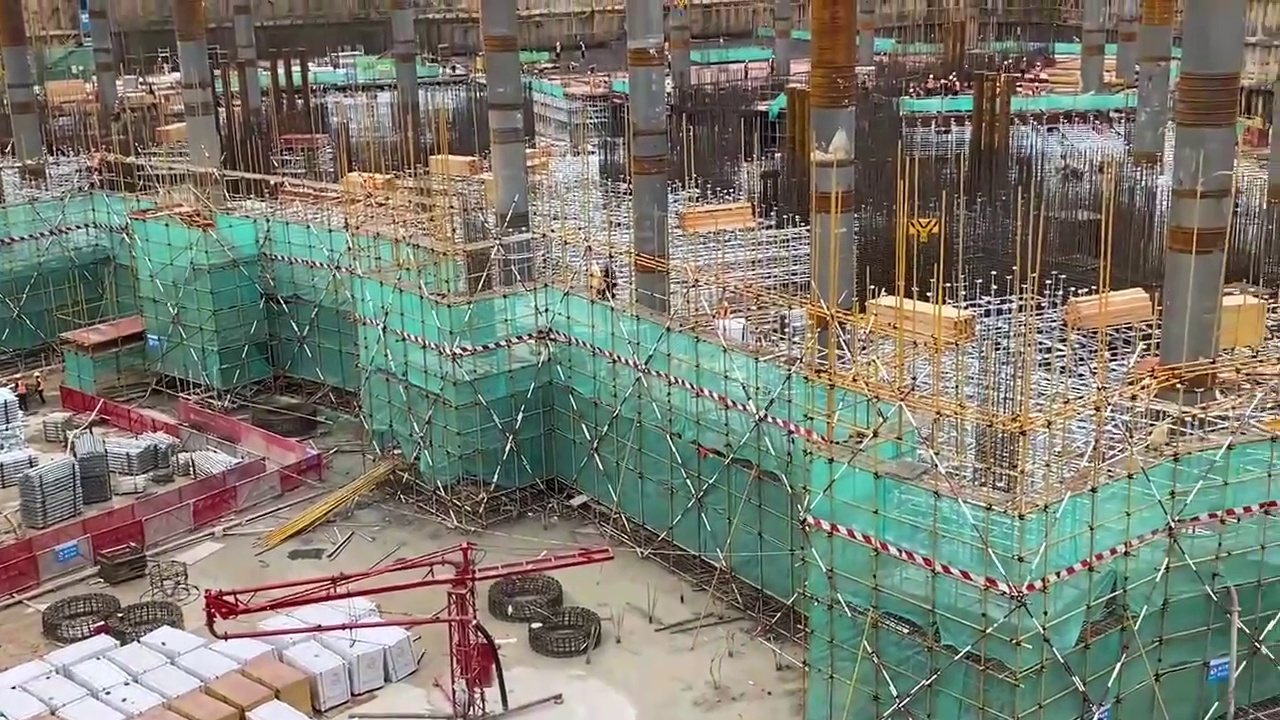fence: (93, 485, 220, 548), (4, 527, 88, 588), (248, 426, 322, 492), (177, 472, 279, 519)
hook: (911, 215, 939, 238)
person: (30, 370, 45, 404), (11, 375, 24, 411)
scaffold: (20, 459, 83, 529), (75, 435, 113, 504), (183, 445, 240, 472), (109, 437, 157, 469), (1, 448, 39, 488), (42, 410, 76, 442)
wood: (869, 290, 977, 341), (1065, 296, 1152, 331)
